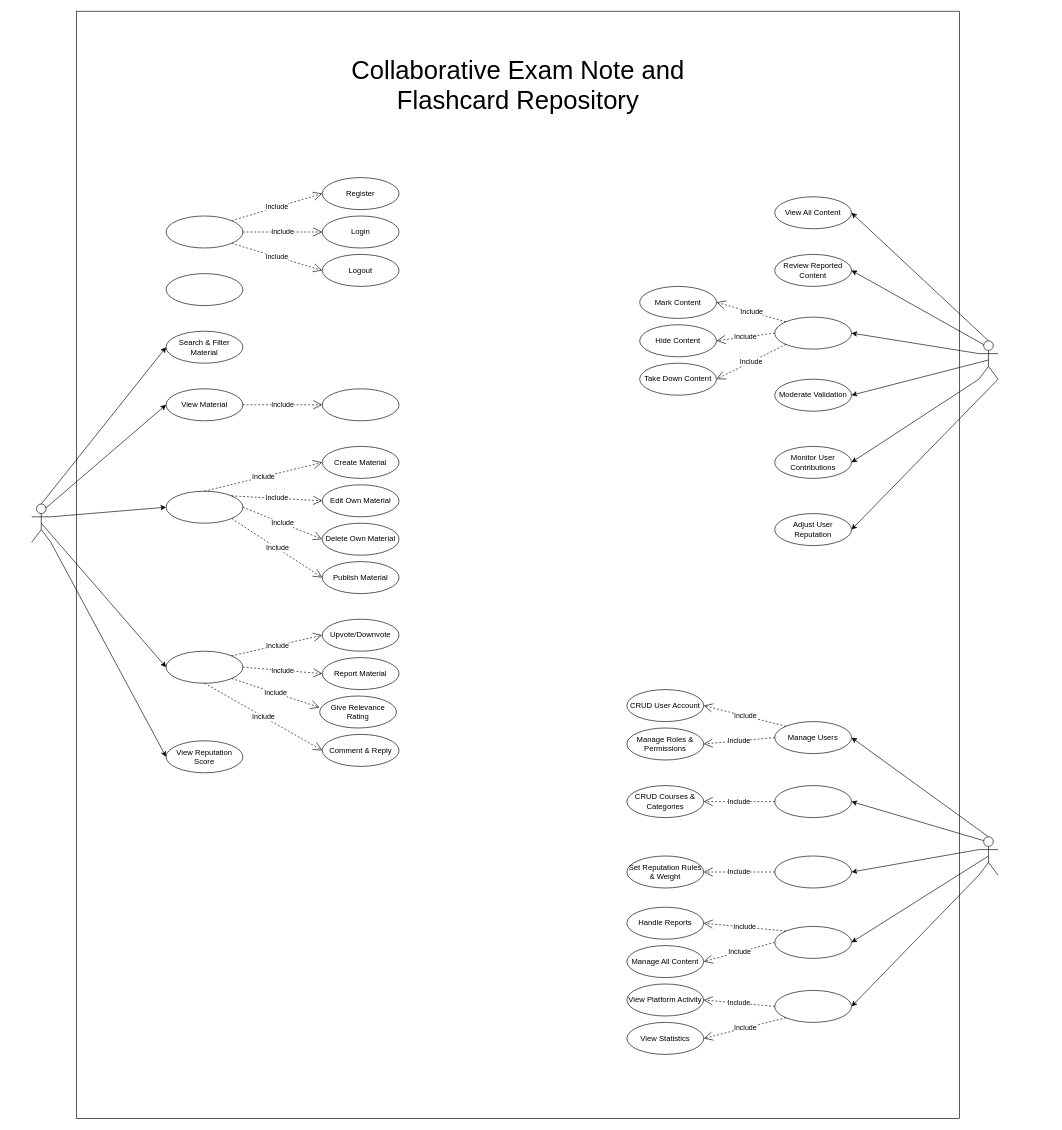
Some shapes in this 1062 by 1130 pixel diagram are drawn without their labels. The shapes that lost their labels are listed below. From the top down, each one's centre as x and y in pixels, then its label:
At [204,231]: "Authenticate".
At [204,289]: "Manage Account".
At [813,332]: "Moderate Content".
At [988,359]: "Content Moderator/System Operator".
At [360,404]: "Save Material".
At [41,522]: "Student/End User".
At [204,507]: "Manage Own Material".
At [204,667]: "Interact with Material".
At [813,801]: "Manage Courses & Categories".
At [813,871]: "Manage Reputation Rules".
At [988,855]: "Administrator".
At [813,942]: "Manage Content & Reports".
At [813,1006]: "Monitor Platform".
